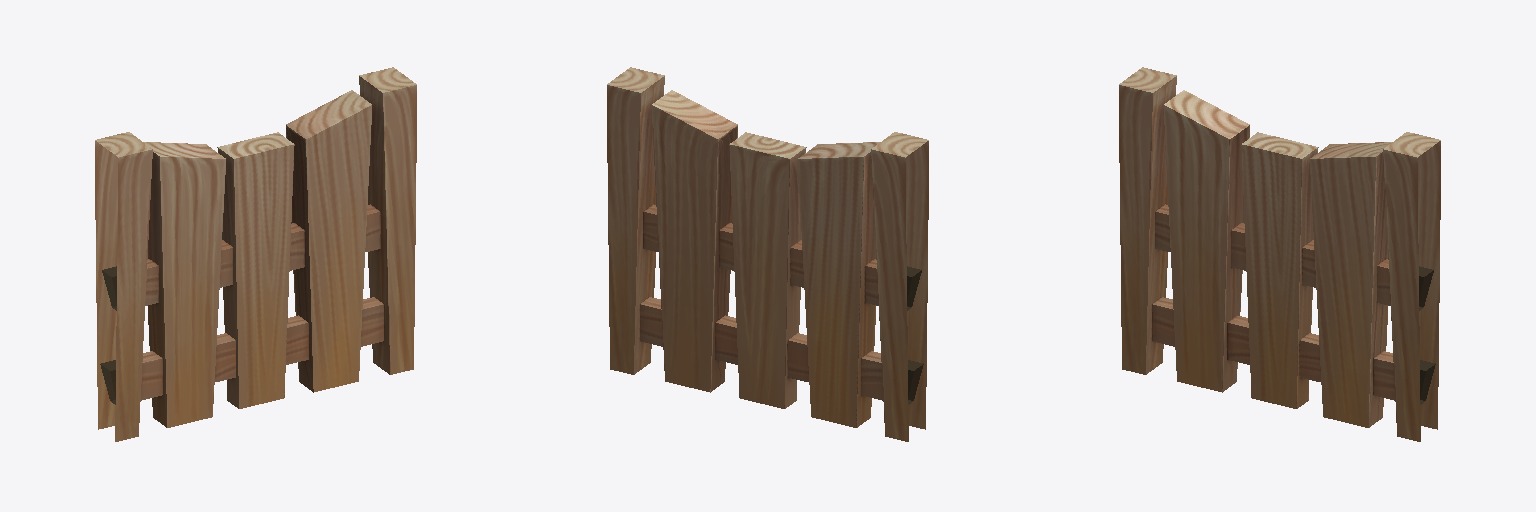
3 renders of one model, left to right at view 1: azimuth 30°, elevation 25°; view 2: azimuth 150°, elevation 25°; view 3: azimuth 330°, elevation 25°, orthographic.
Parts seen in each view (by area): view 1: fence2_middle; view 2: fence2_middle; view 3: fence2_middle.
Part boxes in pixels (left/top/right/bottom): fence2_middle: left=95, top=67, right=416, bottom=441; fence2_middle: left=607, top=67, right=928, bottom=441; fence2_middle: left=1119, top=67, right=1440, bottom=441.
Size of the model in its own units: 50.49 by 45.92 by 6.96.
1 materials, 1 textured.